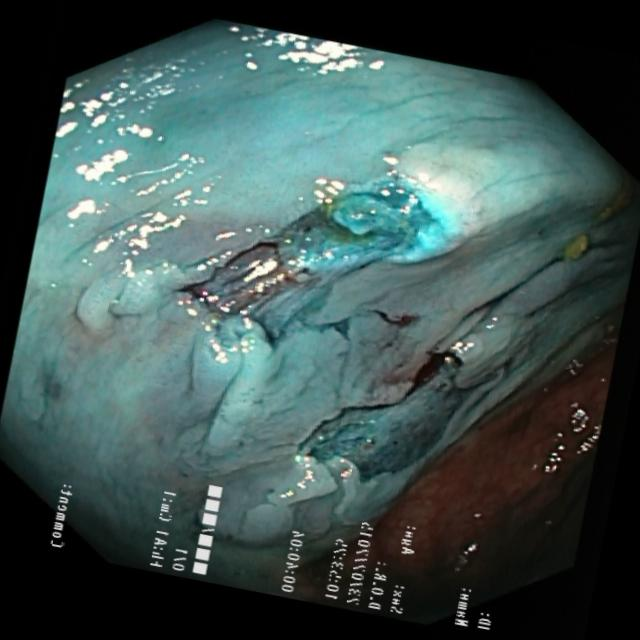dyed-resection-margins: (173, 162, 456, 339), (299, 297, 489, 491)
